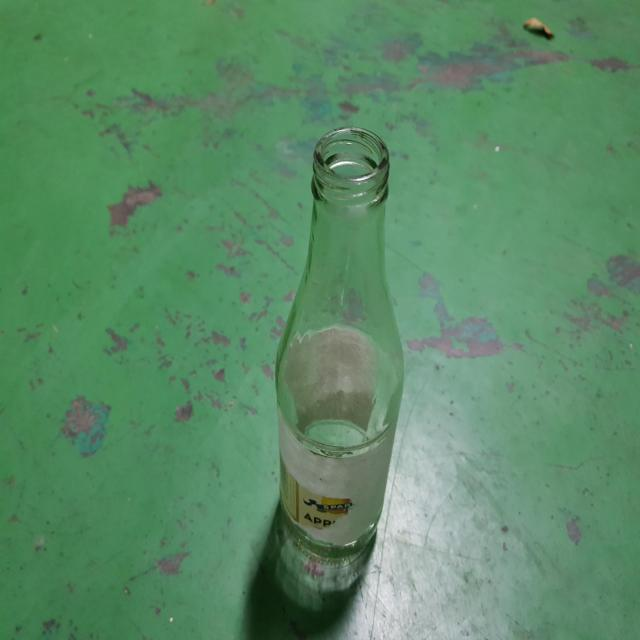glass: (276, 127, 404, 549)
